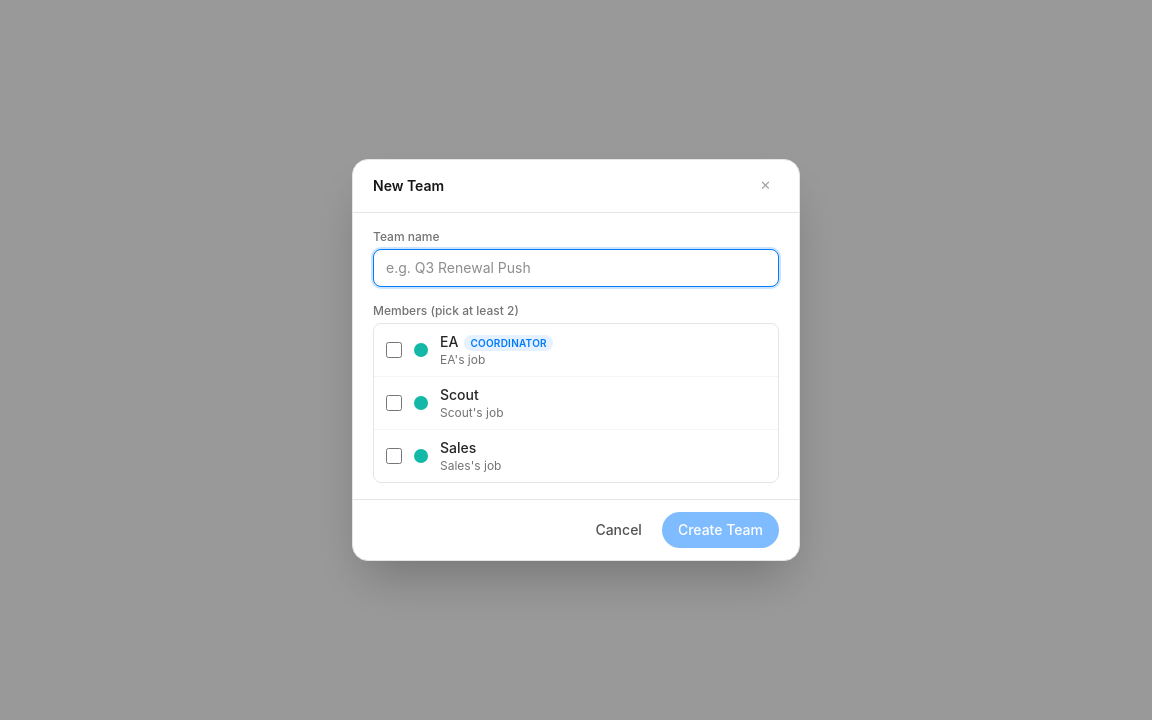
Test case: TeamEditor › deselecting drops below the minimum and disables submit again
In the field labelled "Team name": (576, 268) [373,249,779,287], type "Duo"
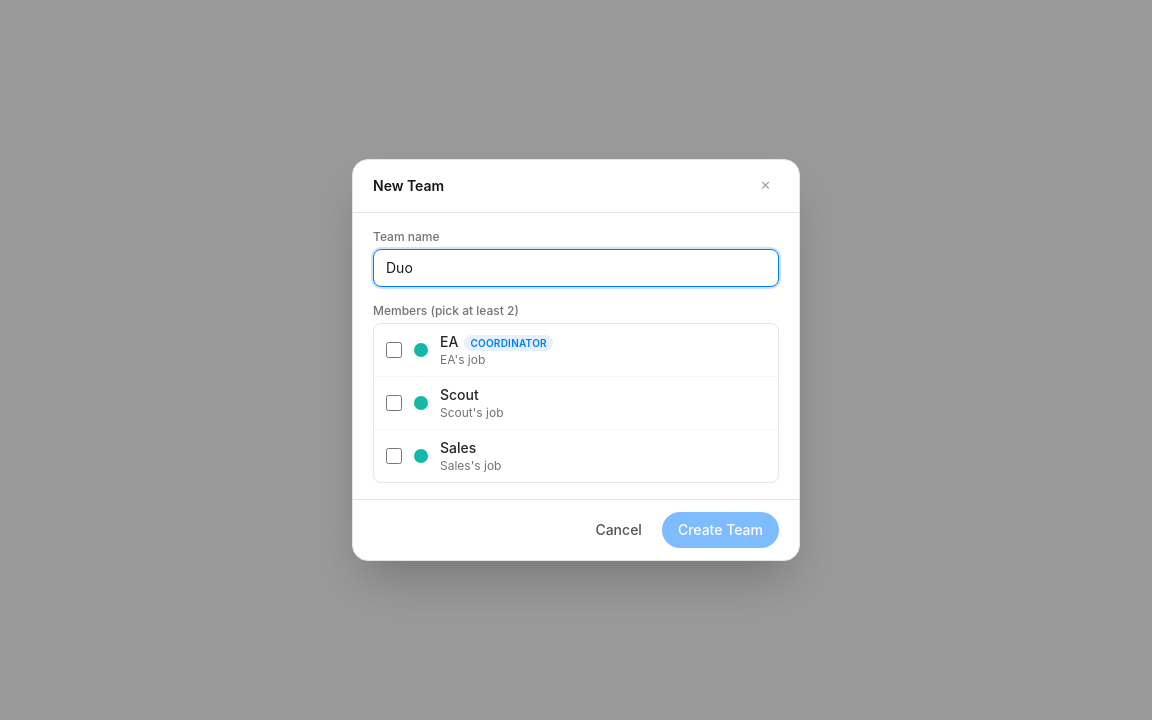
Click the checkbox labelled "EA": (394, 350) [386,342,402,358]
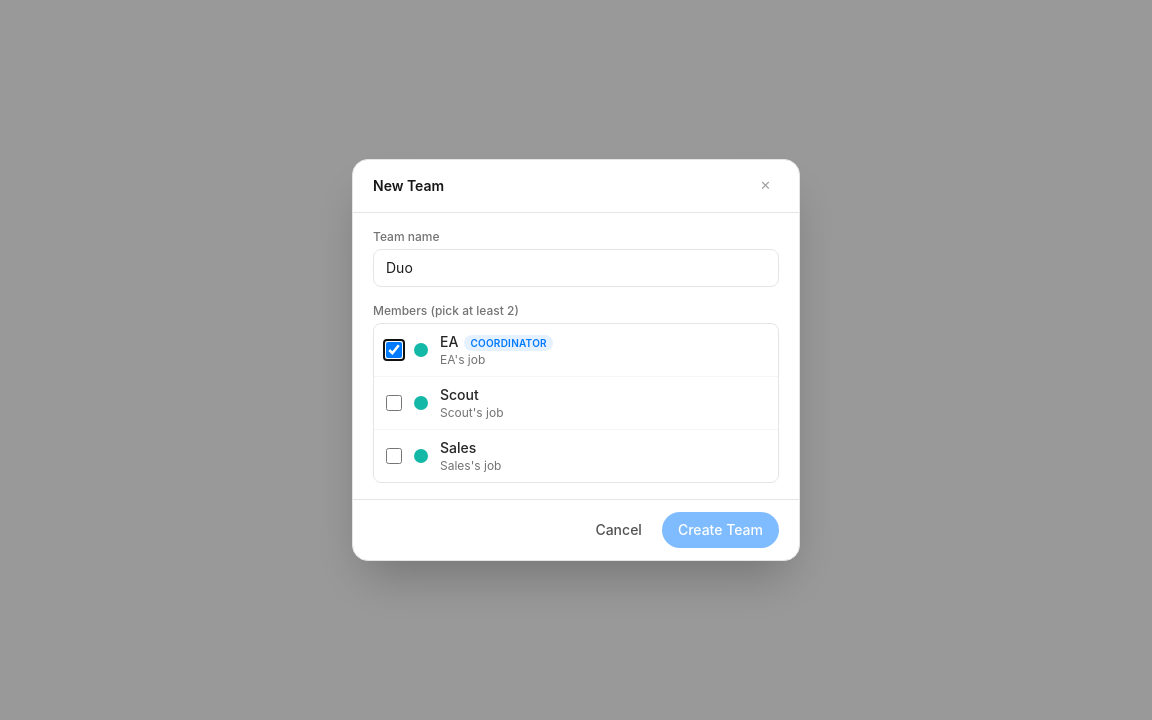
Click the checkbox labelled "Scout": (394, 403) [386,395,402,411]
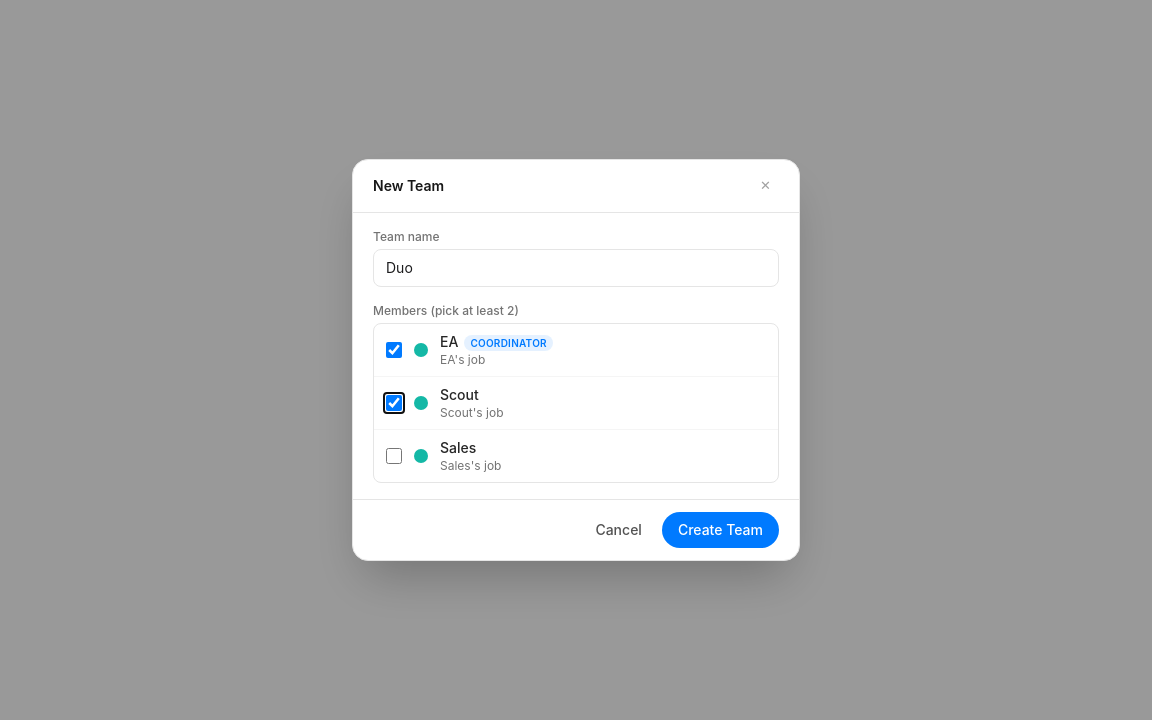
Expected: the button "Create Team" is enabled, [662,512,779,548]
Click the checkbox labelled "Scout": (394, 403) [386,395,402,411]
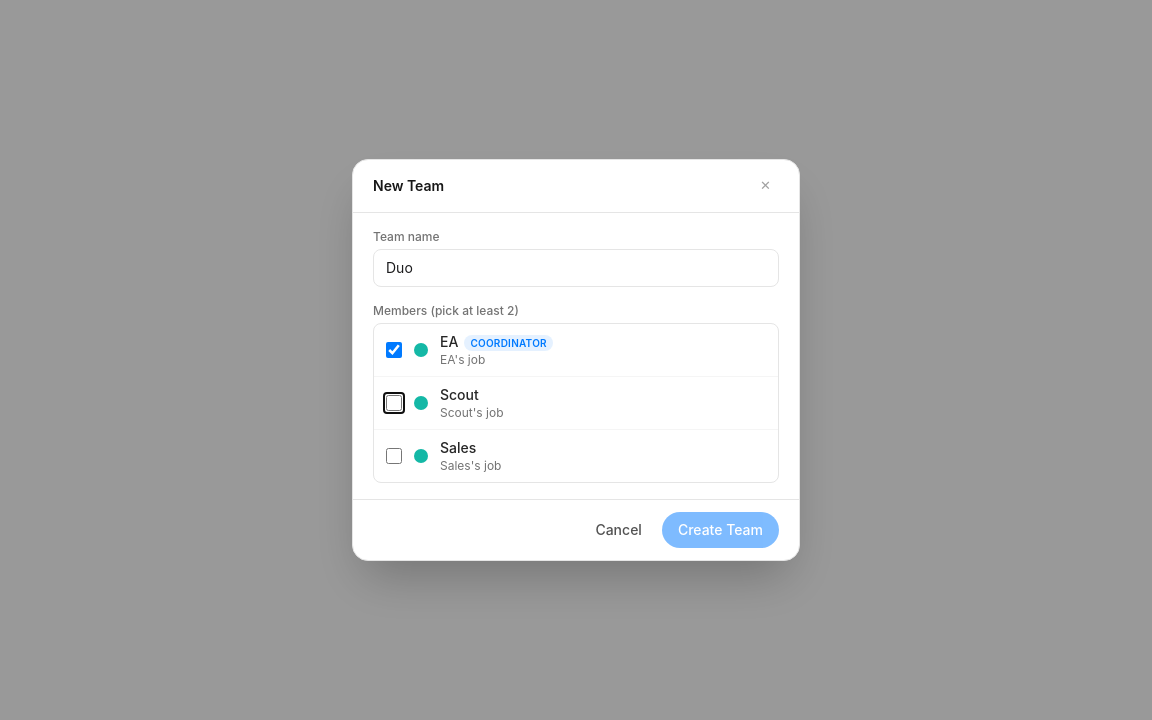
Expected: the button "Create Team" is disabled, [662,512,779,548]
